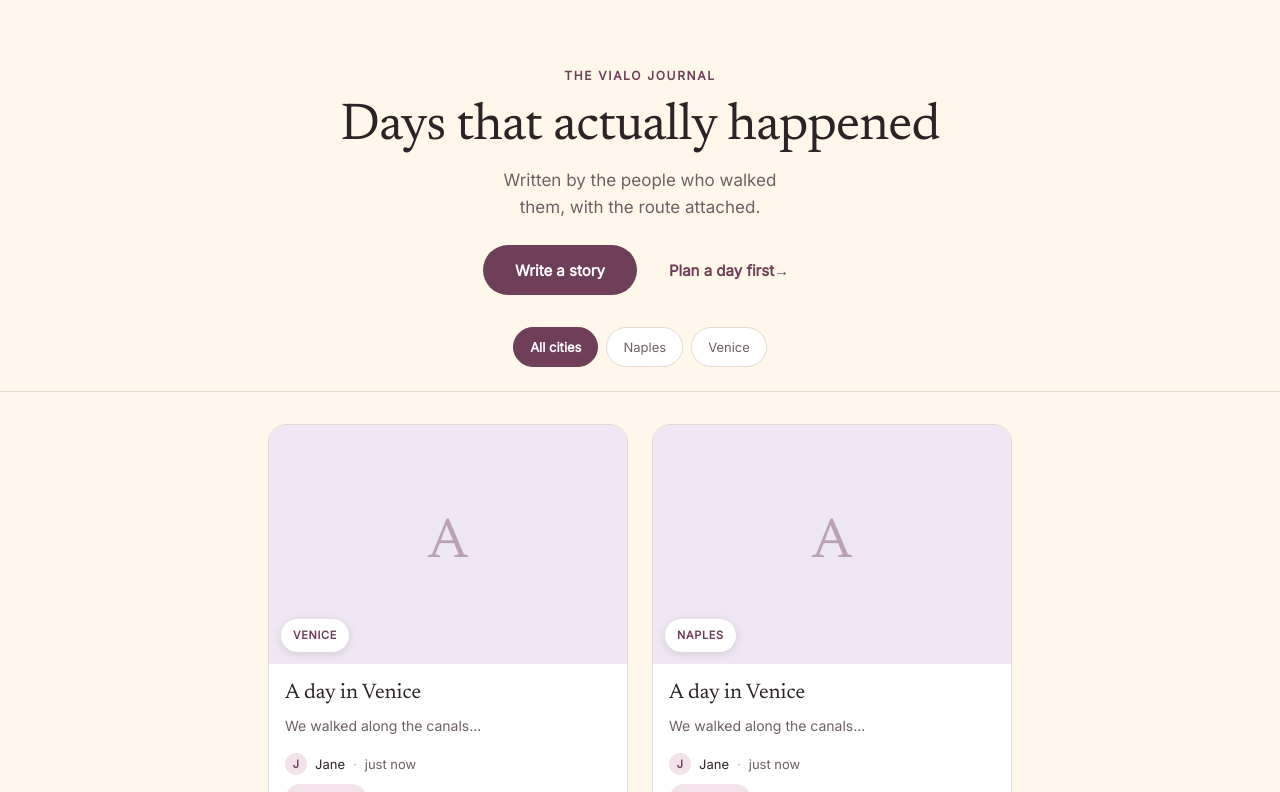
Test: JournalLanding city filter › names the city in the empty state when a filter finds nothing
This screenshot has width=1280, height=792.
Click the button "Naples" at (645, 347), box [606, 327, 683, 367]
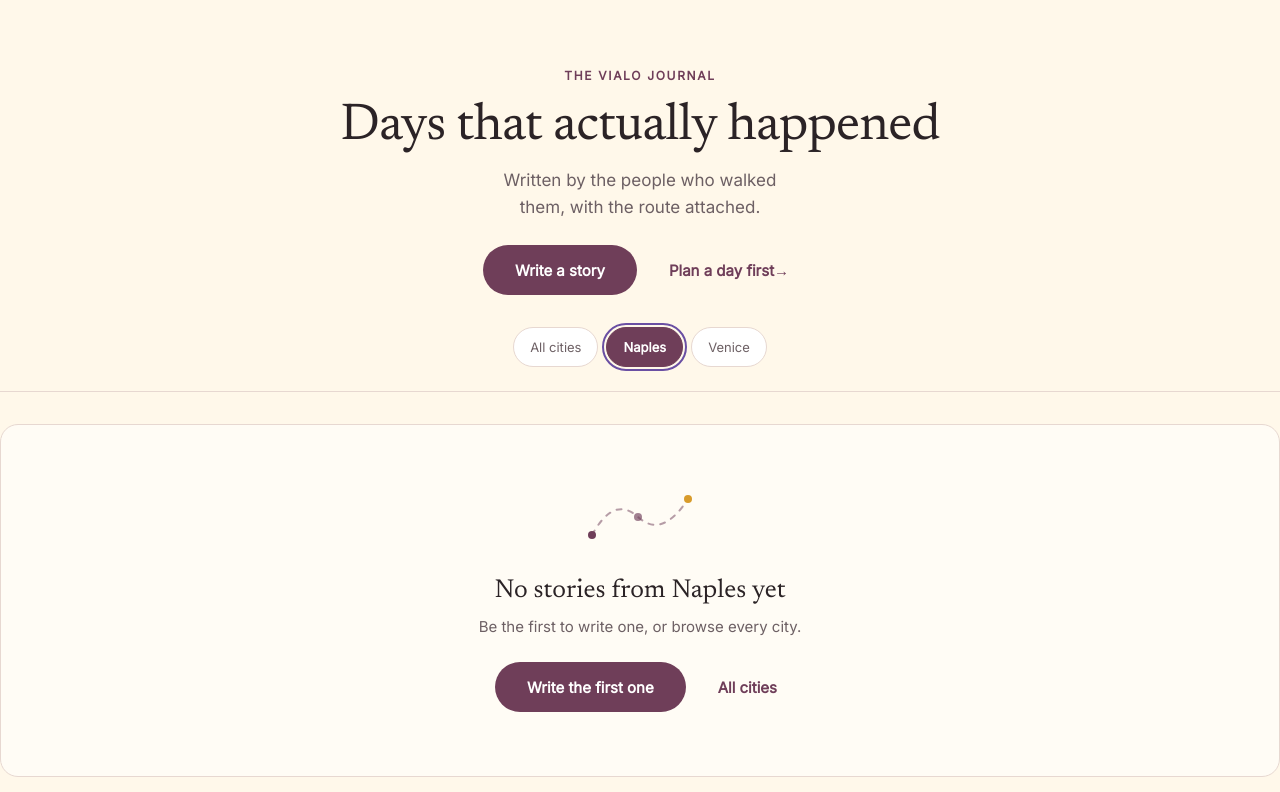
Expected: the text "No stories from Naples yet" is shown, [494, 578, 786, 604]
